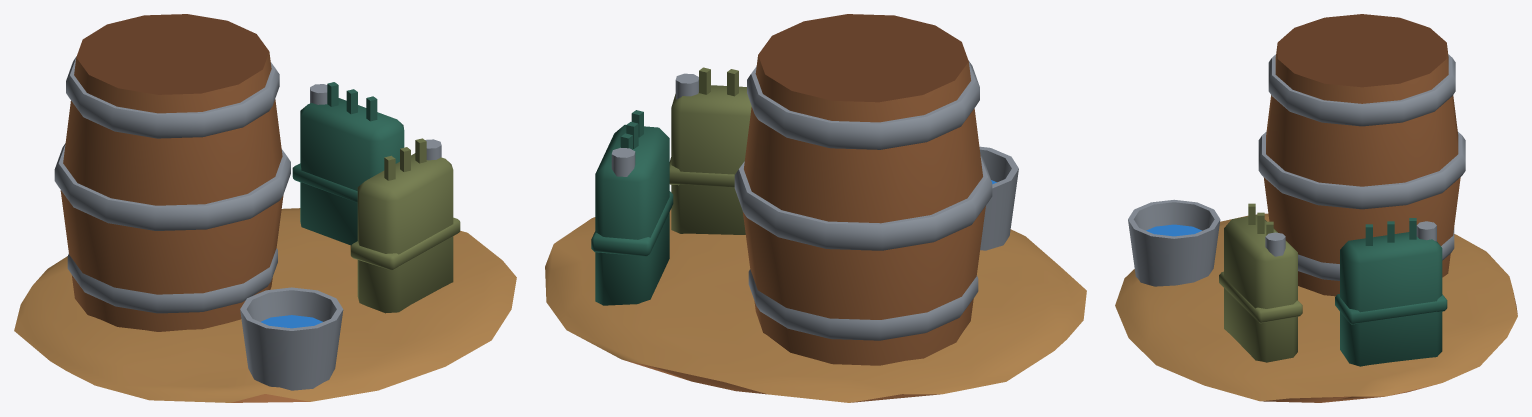
The model's file is WaterBarrels.fbx.
The picture shows the model from 3 angles, left to right: view 1: azimuth 30°, elevation 25°; view 2: azimuth 150°, elevation 25°; view 3: azimuth 270°, elevation 25°; orthographic projection. The views are drawn at different scales.
Parts seen in each view (by area): view 1: WaterBarrels; view 2: WaterBarrels; view 3: WaterBarrels.
Part boxes in pixels (x1=…): WaterBarrels: x1=14, y1=14, x2=516, y2=402; WaterBarrels: x1=545, y1=14, x2=1086, y2=402; WaterBarrels: x1=1115, y1=14, x2=1517, y2=402.
Bounding box in the file's own units: 1.57 × 0.86 × 1.39.
Materials: 1 (1 with a texture image).
